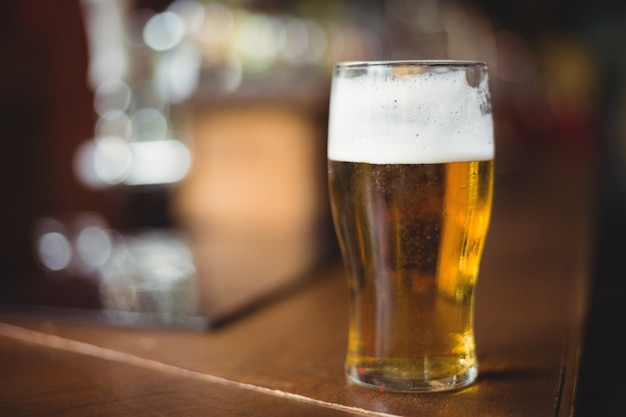alcohol: (325, 56, 492, 397)
